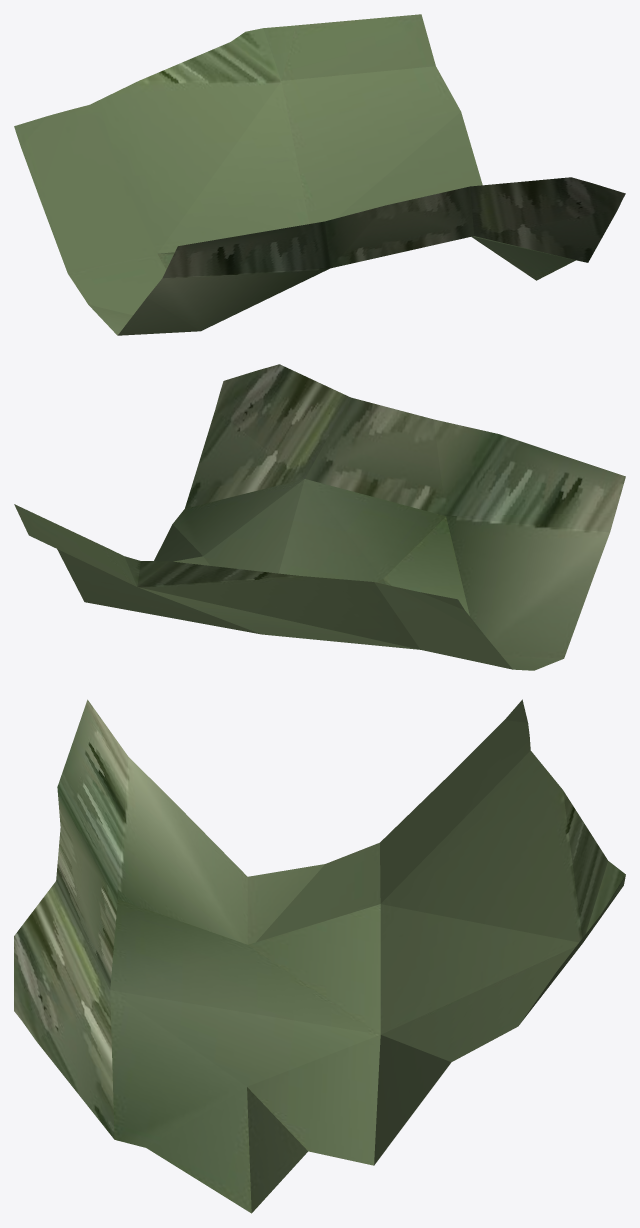
3 renders of one model, top to bottom at view 1: azimuth 30°, elevation 25°; view 2: azimuth 150°, elevation 25°; view 3: azimuth 270°, elevation 25°, orthographic. The views are drawn at different scales.
Bounding box in the file's own units: 2.95 × 1.22 × 2.8.
2 materials, 2 textured.
